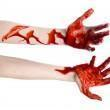Fire: (48, 9, 110, 51), (56, 56, 110, 100), (2, 26, 44, 44)
